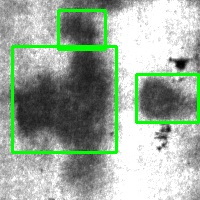patches: (12, 46, 116, 152), (136, 74, 198, 122), (58, 10, 105, 49)
